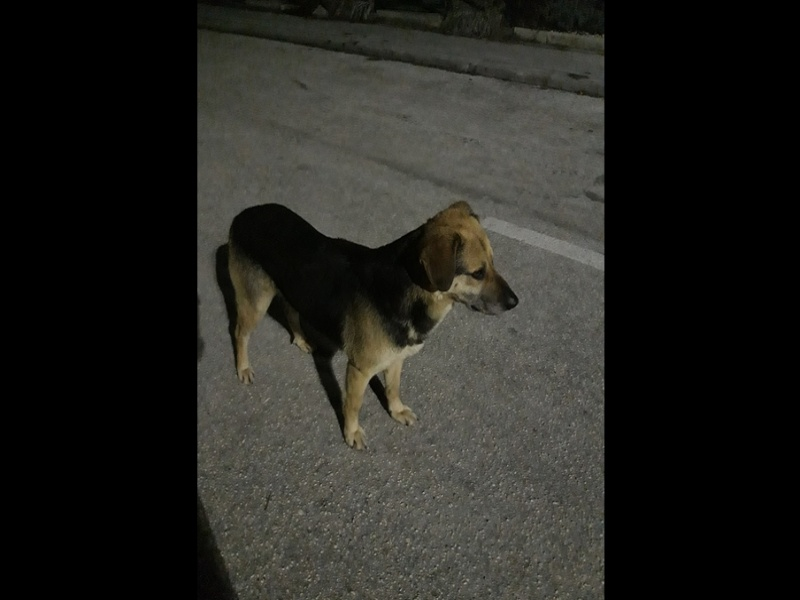dog: (223, 192, 522, 453)
